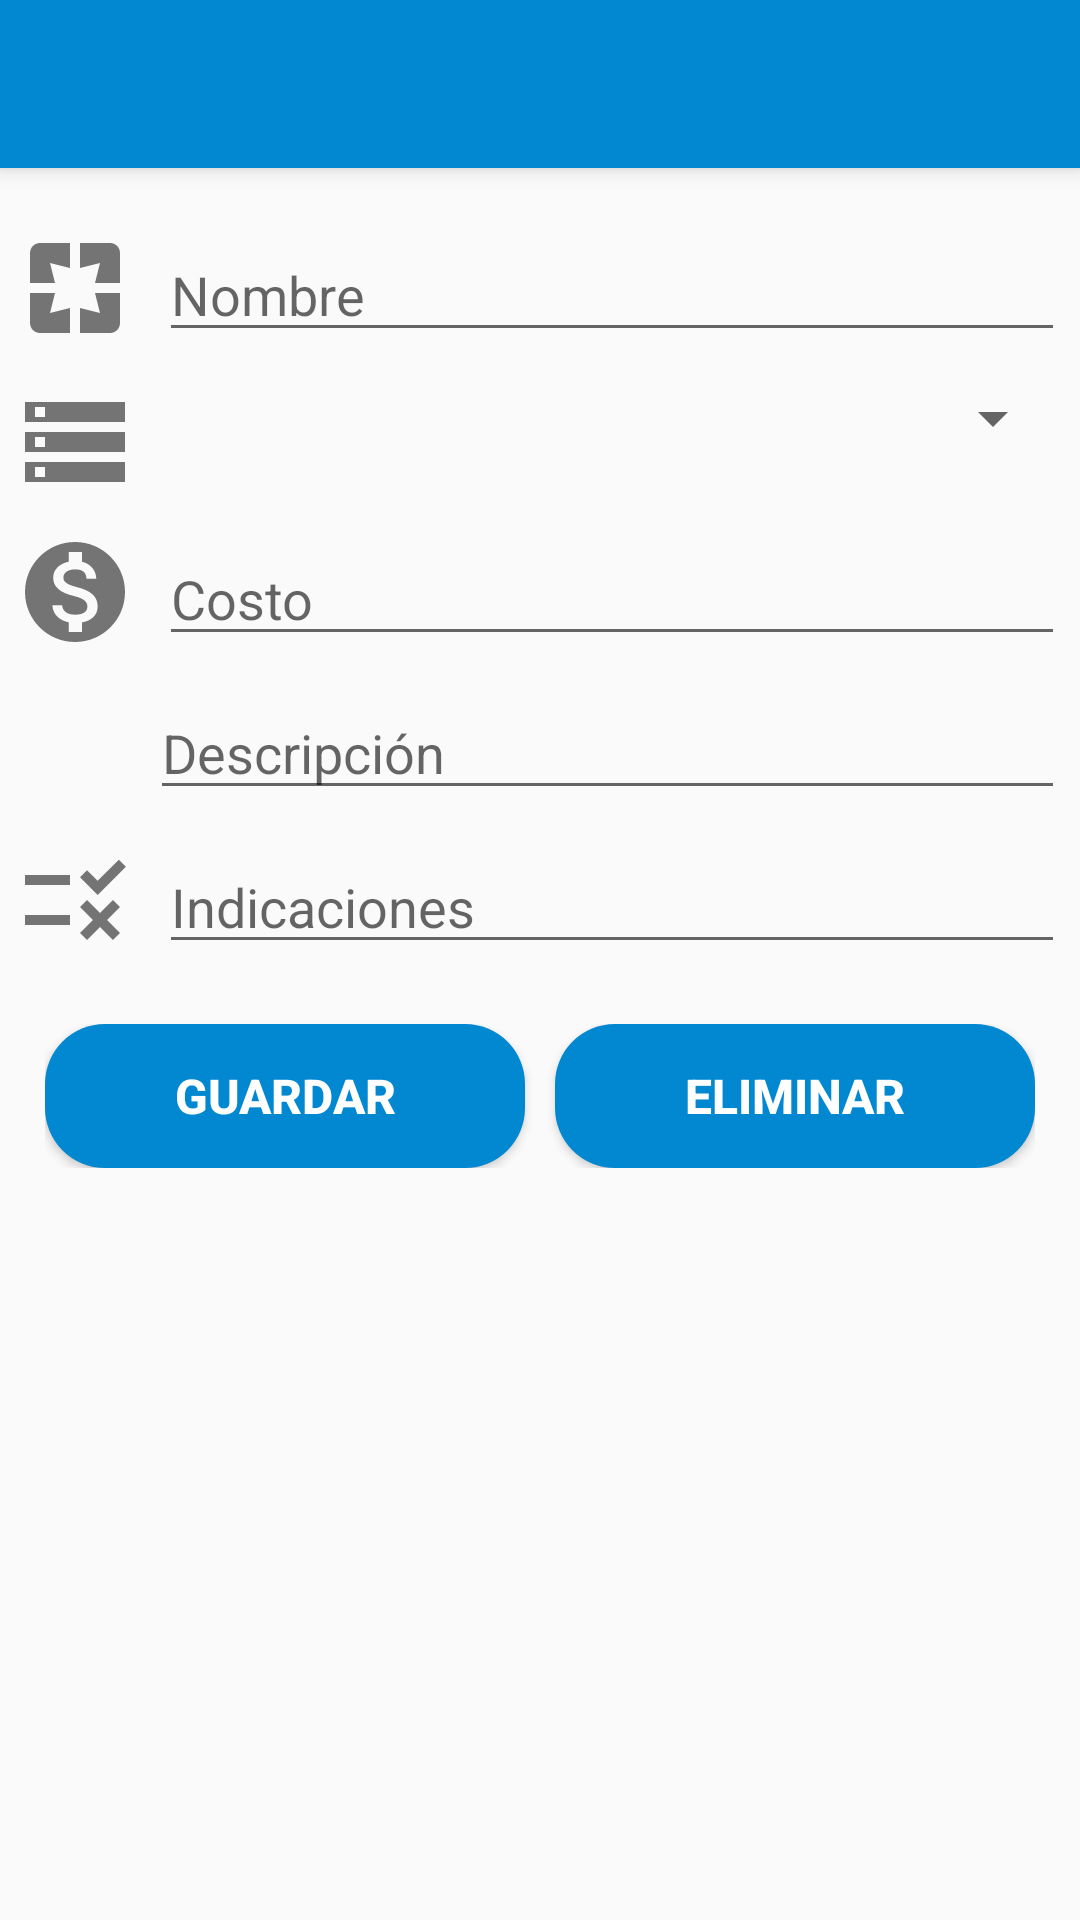

Icons on this 1080 x 1920 Android screen, each with the point to tap as point (x, y):
money: point (75, 592)
rules: point (75, 900)
services: point (75, 288)
